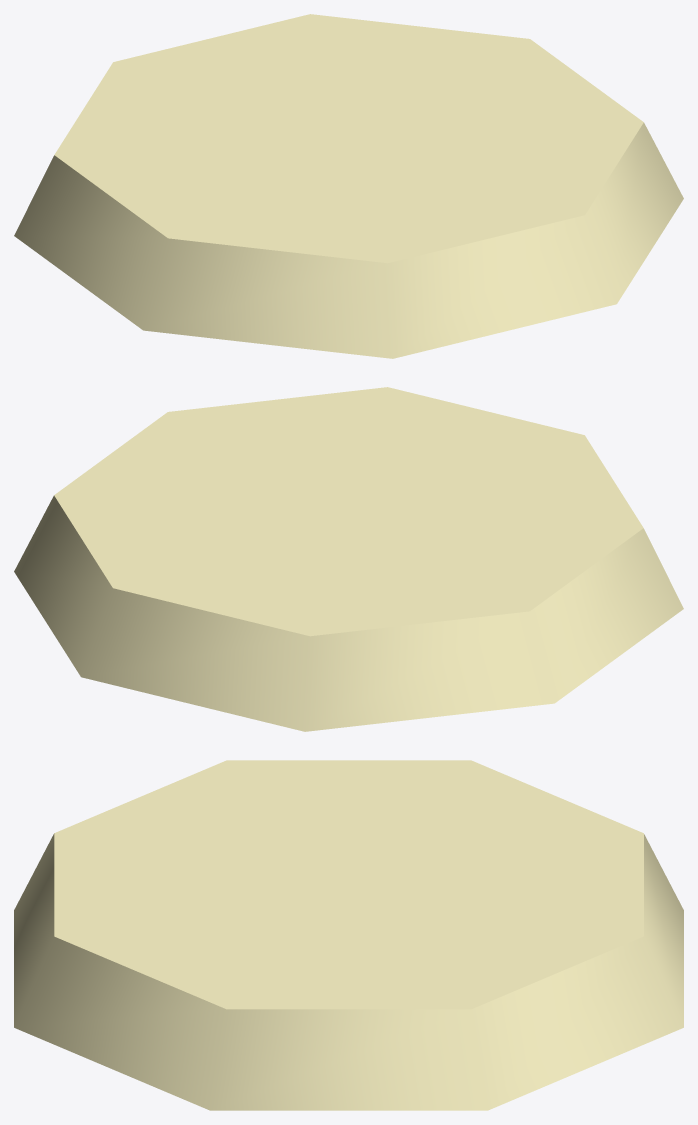
Rendered from Itr_Barchair_Base_02.FBX.
The picture shows the model from 3 angles, top to bottom: view 1: azimuth 30°, elevation 25°; view 2: azimuth 150°, elevation 25°; view 3: azimuth 270°, elevation 25°; orthographic projection. The views are drawn at different scales.
Visible parts, largest first — view 1: Itr_Barchair_Base_02; view 2: Itr_Barchair_Base_02; view 3: Itr_Barchair_Base_02.
Boxes of the visible parts, <box> form: Itr_Barchair_Base_02: <box>14,14,683,358</box>; Itr_Barchair_Base_02: <box>14,387,683,731</box>; Itr_Barchair_Base_02: <box>14,760,683,1110</box>.
Size of the model in its own units: 12.19 by 1.69 by 12.19.
